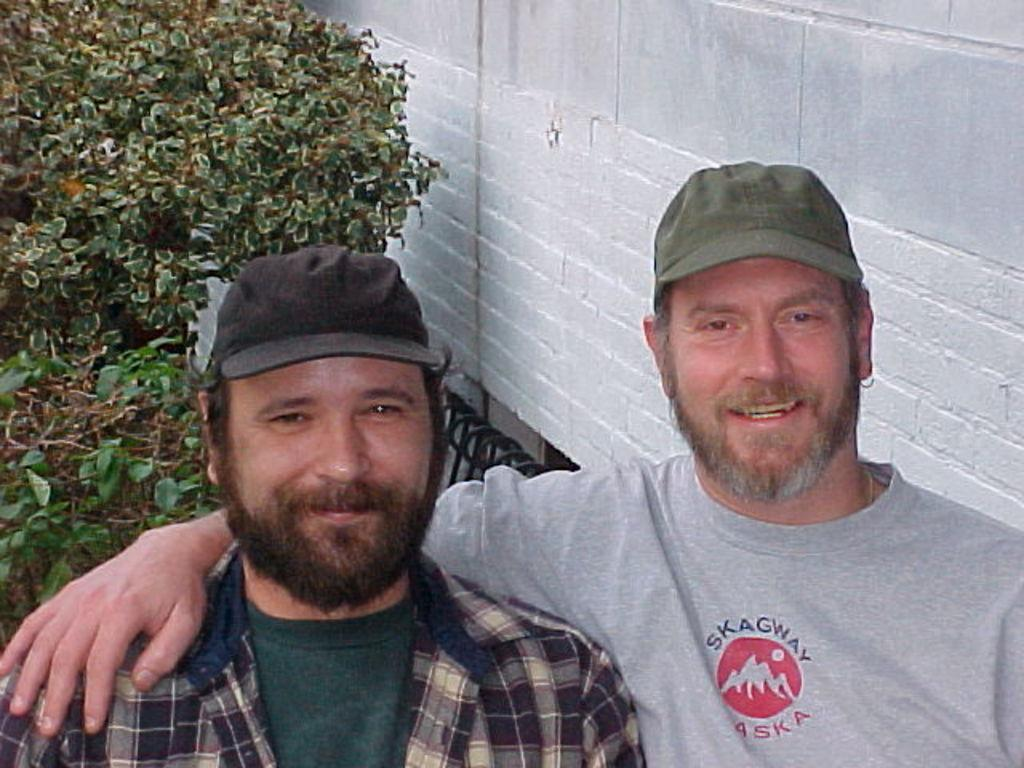Hat: (214, 240, 441, 384), (650, 159, 862, 298)
